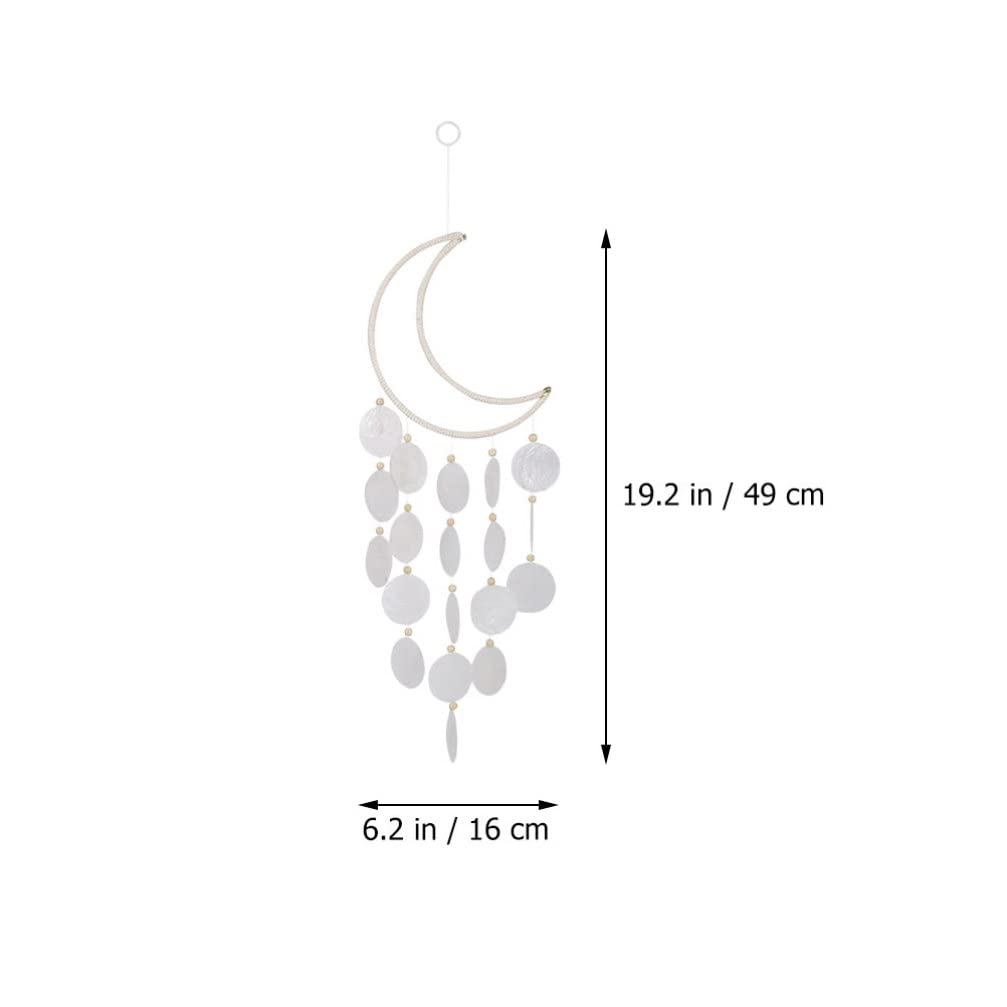/: (453, 817, 457, 845)
16cm: (471, 817, 548, 840)
19.2: (625, 483, 678, 506)
49cm: (744, 483, 823, 506)
6.2: (364, 818, 403, 840)
in: (416, 818, 435, 840)
in/: (691, 482, 733, 510)
